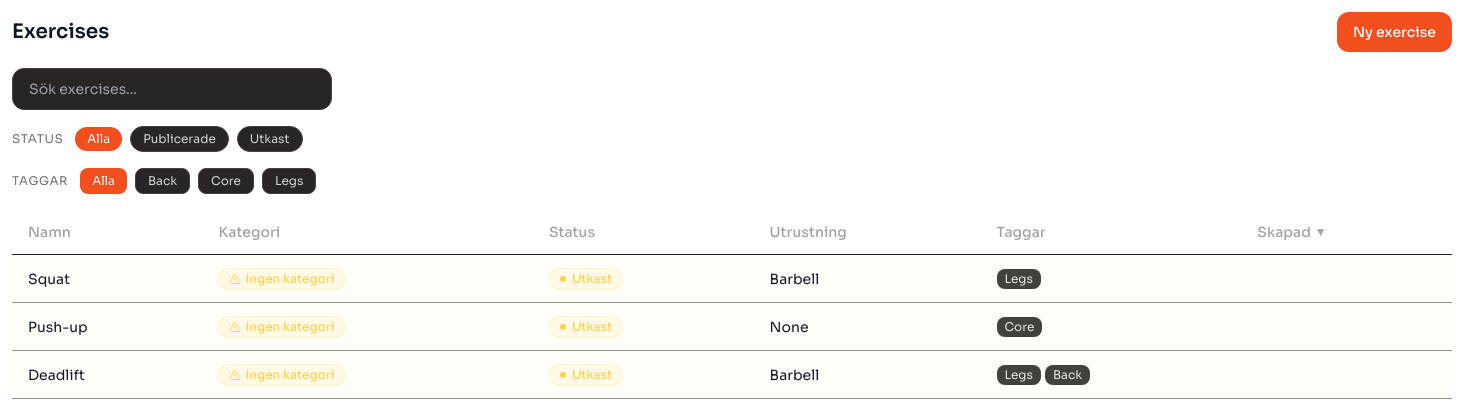
Test: ExerciseList › filtrerar med flera taggar (AND)
The width and height of the screenshot is (1464, 416).
Expected: the text "Squat" is shown, [12, 254, 202, 302]
Click the button "Legs".
click(289, 181)  # box [262, 168, 316, 194]
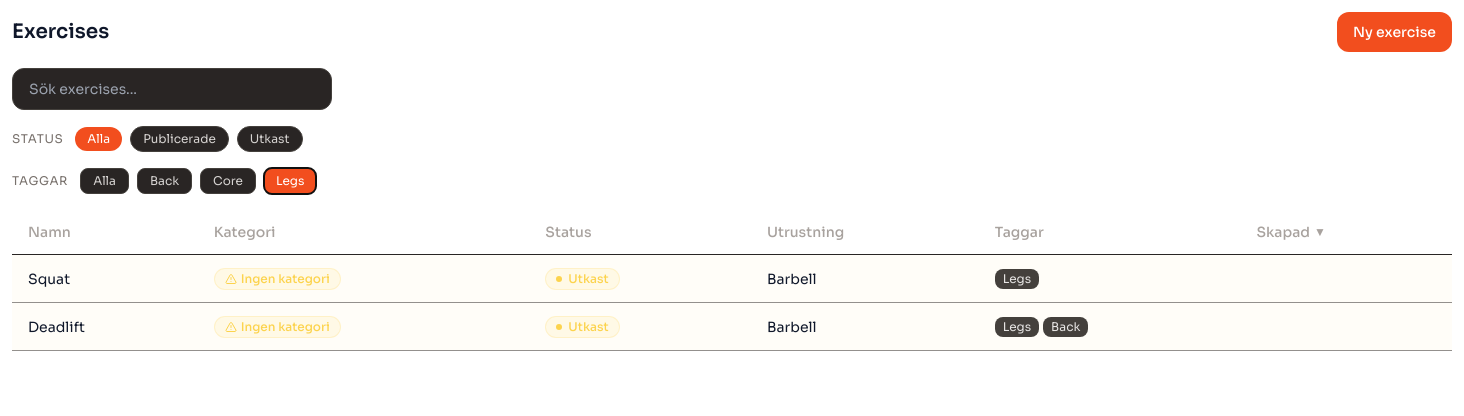
Click the button "Back".
click(164, 181)  # box [137, 168, 192, 194]
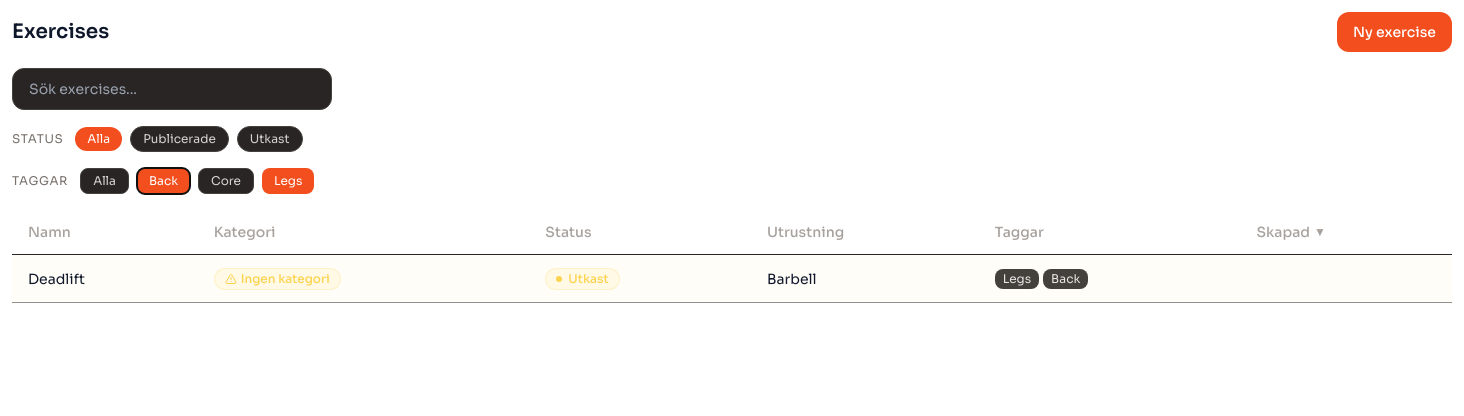
Expected: the text "Deadlift" is shown, [12, 254, 198, 302]
Expected: the text "Squat" is gone
